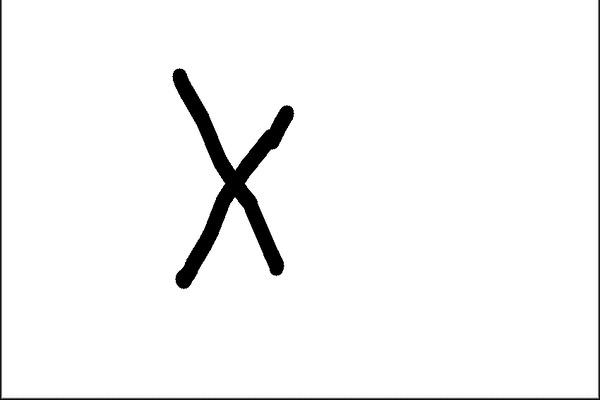X: (161, 59, 308, 305)
